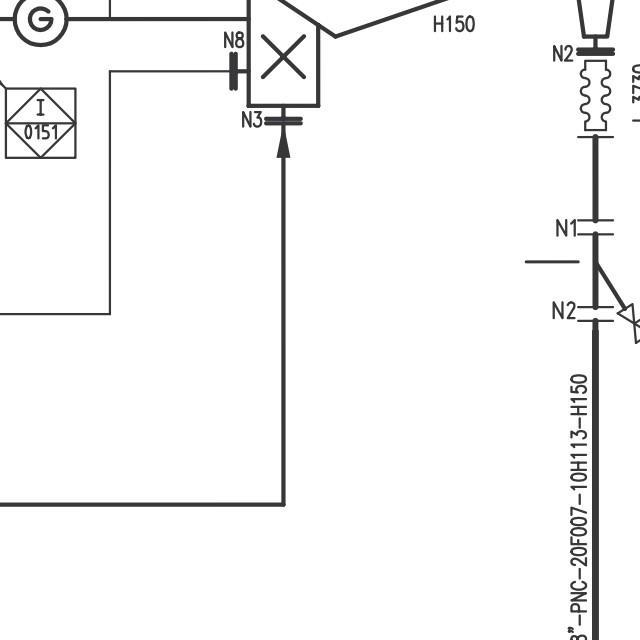EJ: (569, 47, 618, 144)
